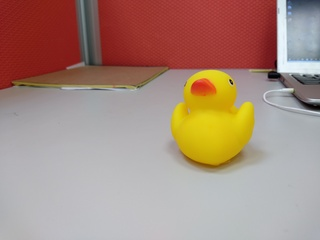duck: (163, 69, 263, 174)
